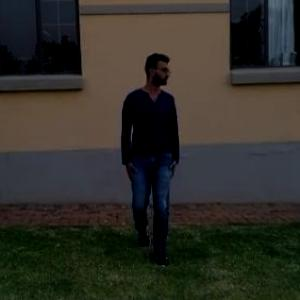follow: (115, 42, 187, 273)
